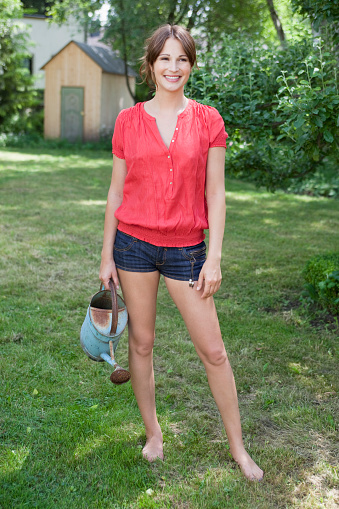em pe: (92, 19, 247, 427)
